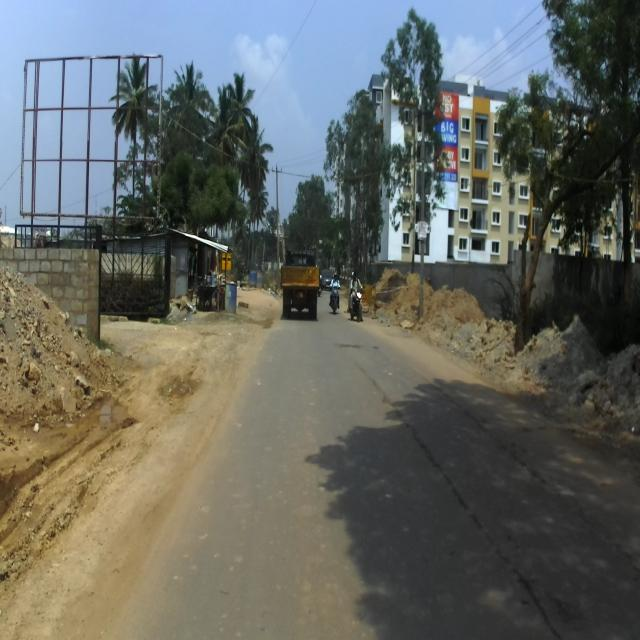truck ahead at: (278, 244, 323, 327)
